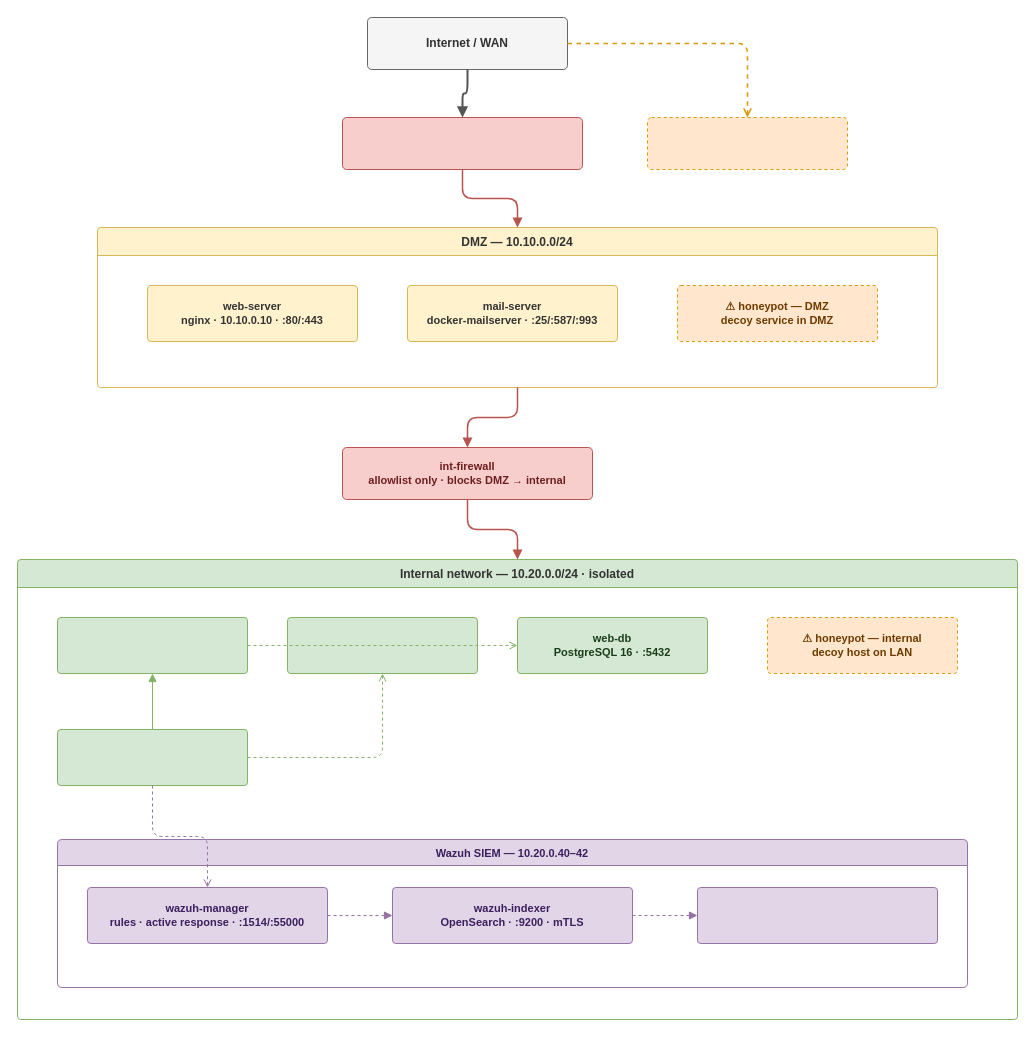
The diagram is 1035 pixels wide and 1037 high, and some of its shapes have lost their labels. The shapes that lost their labels are listed below. From the top down, each one's centre as x and y in pixels, then its label:
the point at 462,143: ext-firewall allows 80, 443, 25, 587, 993
the point at 747,143: ⚠ honeypot — perimeter decoy exposed to internet
the point at 152,645: erp-system Odoo 17 · 10.20.0.10 · :8069
the point at 382,645: fileshare Samba · 10.20.0.20 · :445
the point at 152,757: workstation alpine · 10.20.0.50
the point at 817,915: wazuh-dashboard Kibana UI · :443
